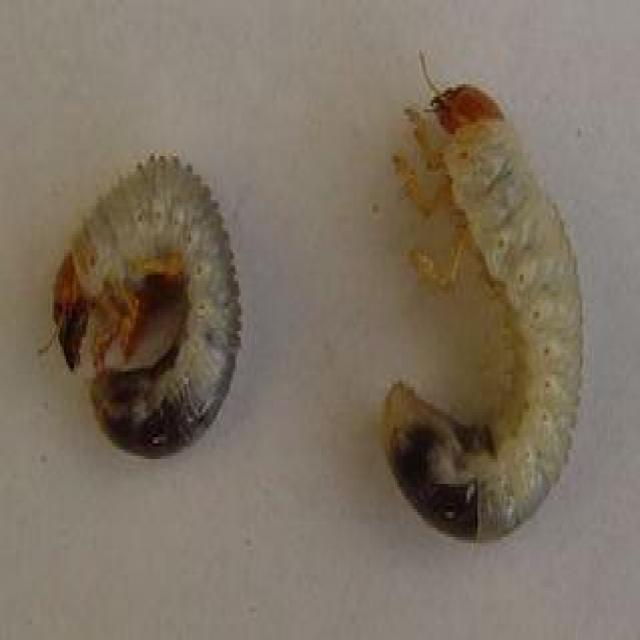Grub-Adult-: (372, 31, 626, 585), (32, 120, 262, 484)
